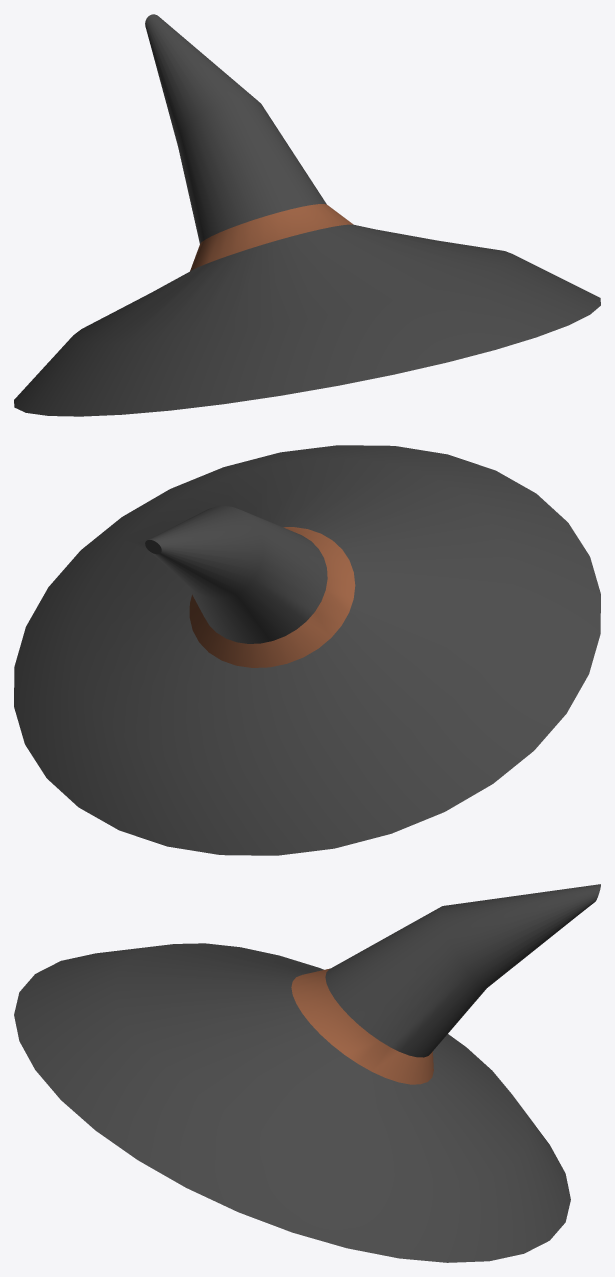
The model's file is Wizzart Hat.fbx.
3 renders of one model, top to bottom at view 1: azimuth 30°, elevation 25°; view 2: azimuth 150°, elevation 25°; view 3: azimuth 270°, elevation 25°, orthographic.
Parts seen in each view (by area): view 1: Cylinder; view 2: Cylinder; view 3: Cylinder.
Boxes of the visible parts, left/top/right/bottom form: Cylinder: left=14, top=14, right=600, bottom=416; Cylinder: left=14, top=445, right=600, bottom=855; Cylinder: left=14, top=884, right=600, bottom=1262.
Size of the model in its own units: 3.36 by 1.97 by 3.33.
